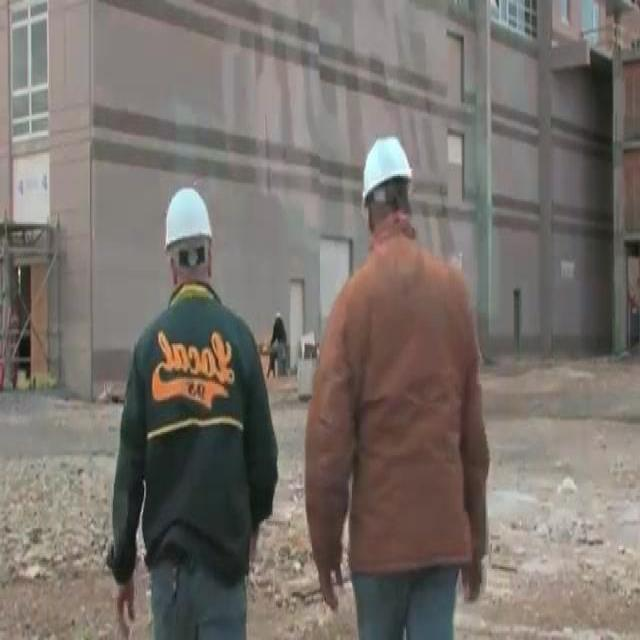Safety-Helmet: (153, 176, 222, 265), (352, 122, 420, 212)
